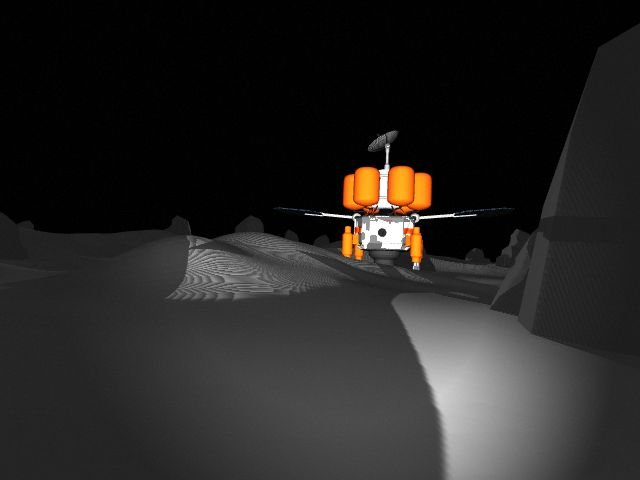homebase: (271, 128, 520, 272)
